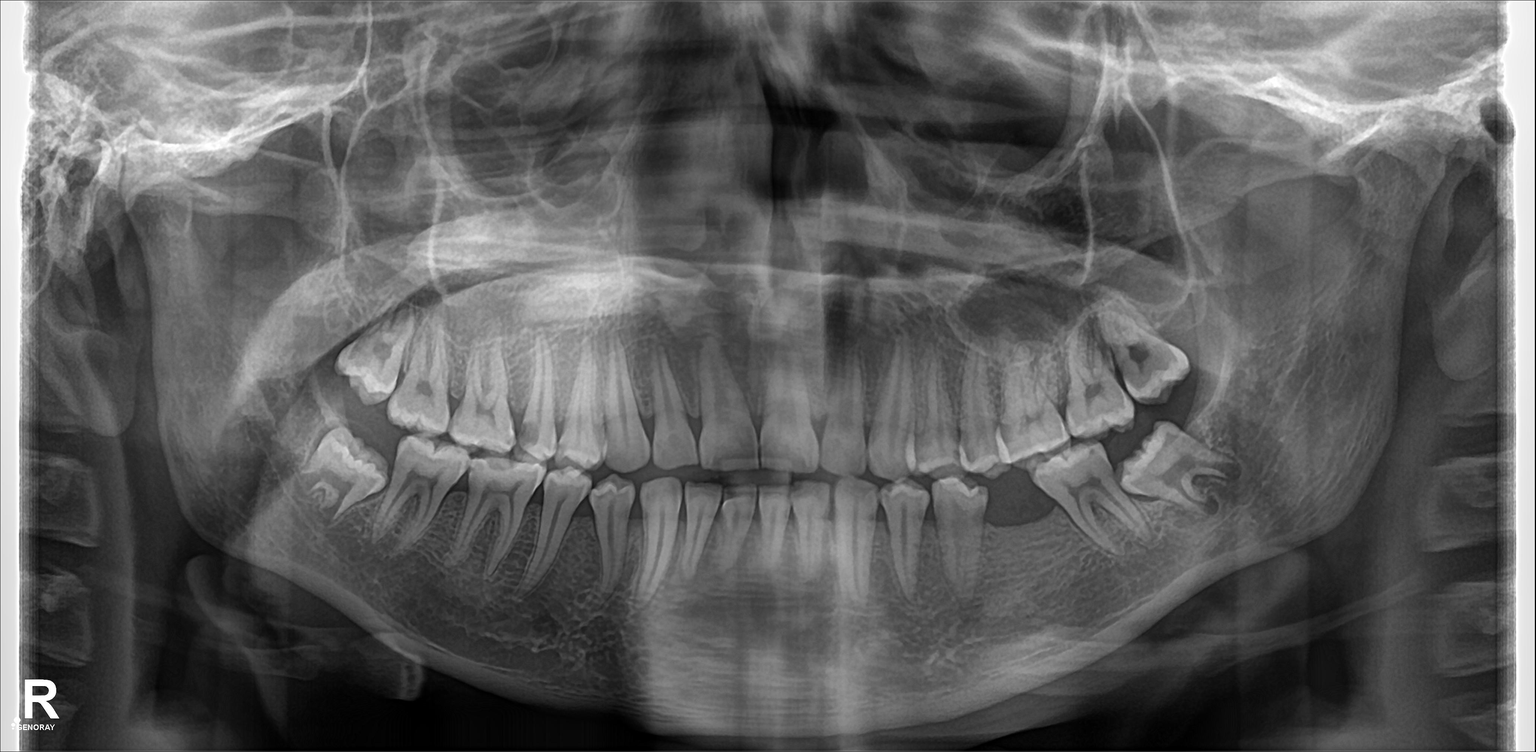Dental Caries: (508, 406, 542, 445), (1117, 341, 1153, 372)
Impacted Third Molar: (1132, 430, 1240, 509), (298, 447, 387, 517)
Missing Tooth: (983, 478, 1055, 576)
